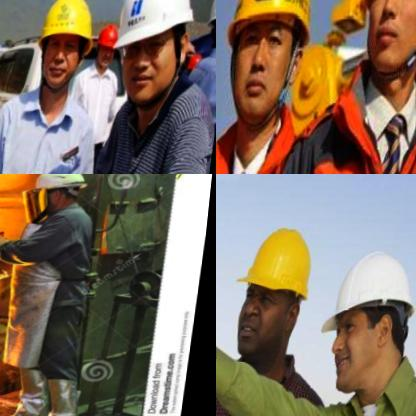helmet: (315, 230, 416, 416), (216, 0, 337, 151), (226, 208, 330, 372), (120, 0, 205, 106), (342, 0, 416, 103), (30, 0, 97, 93), (36, 174, 94, 213), (97, 26, 128, 69), (206, 0, 216, 58)
